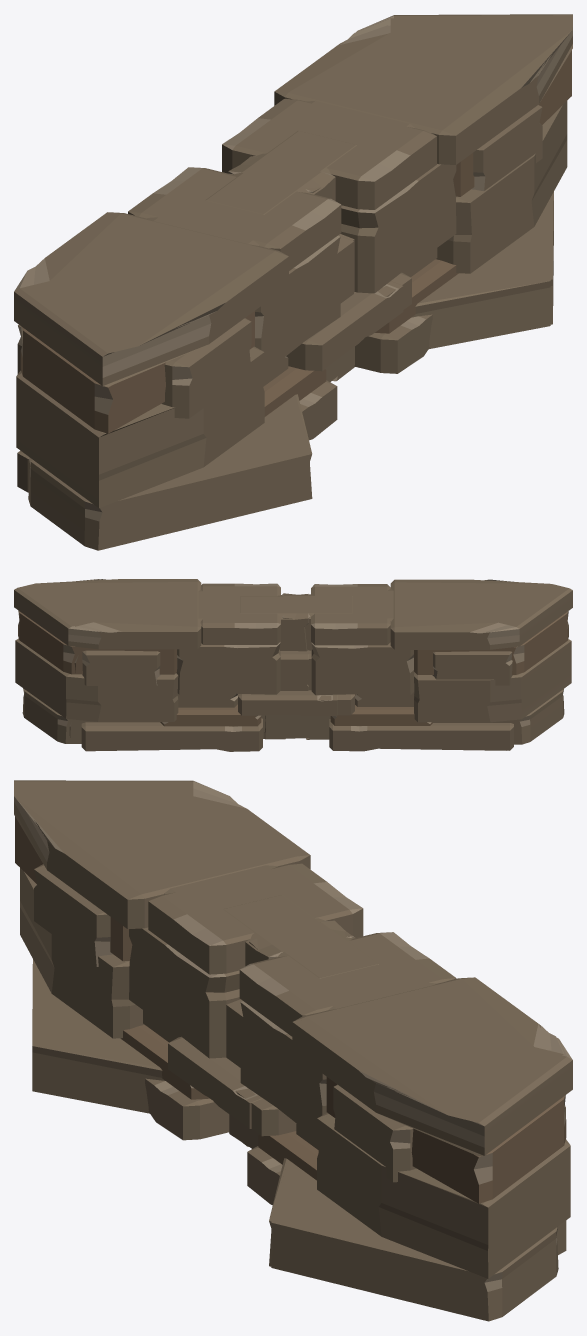
Rendered from single.glb.
The picture shows the model from 3 angles, top to bottom: view 1: azimuth 30°, elevation 25°; view 2: azimuth 150°, elevation 25°; view 3: azimuth 270°, elevation 25°; orthographic projection. The views are drawn at different scales.
Parts seen in each view (by area): view 1: Wall_Modular.002; view 2: Wall_Modular.002; view 3: Wall_Modular.002.
Part boxes in pixels (x1,y1,x2,y2): Wall_Modular.002: (14, 14, 572, 550); Wall_Modular.002: (14, 579, 572, 751); Wall_Modular.002: (14, 780, 572, 1321).
Bounding box in the file's own units: 1.29 × 0.361 × 0.8814.
